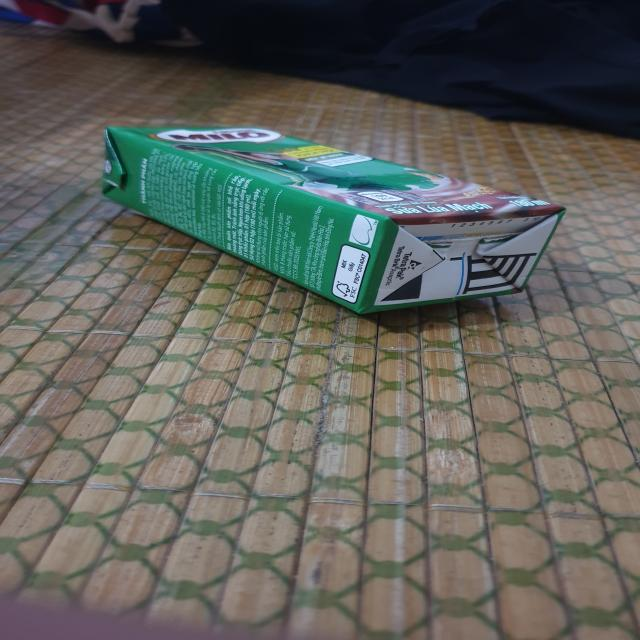Milo: (103, 122, 568, 318)
